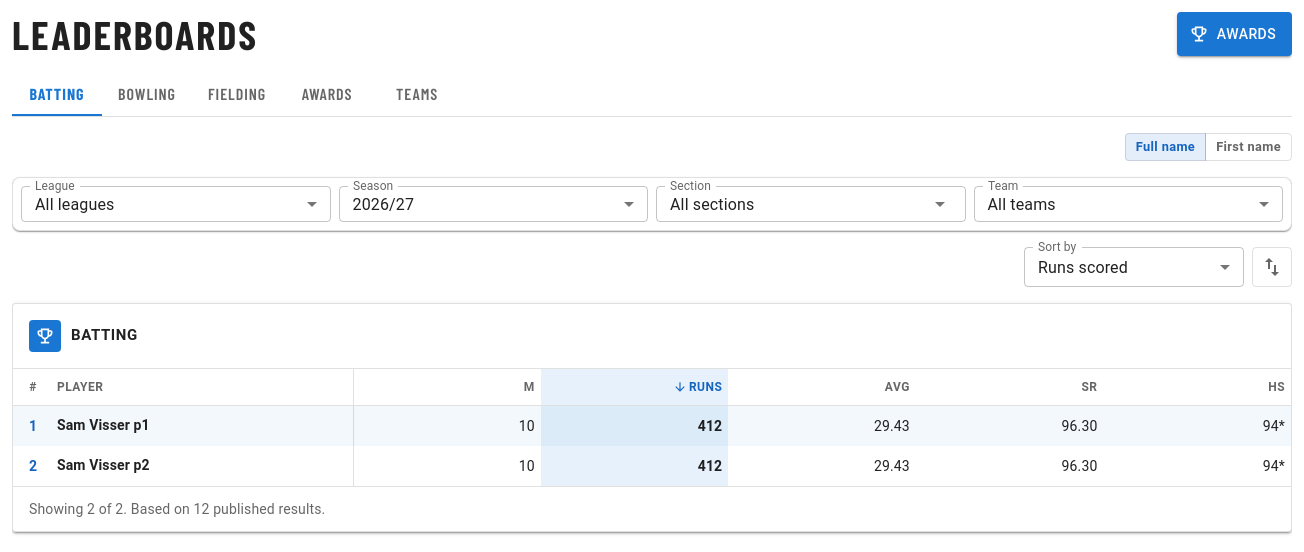
Test: LeaderboardsPage › columns and sorting › does not offer a heading or the Sort by select for a column the catalogue says is not sortable
The width and height of the screenshot is (1304, 552).
Expected: the button "M" is disabled, [353,369,541,405]
Click the dropdown named "Sort by" at (1083, 267), box [1038,258,1128,276]
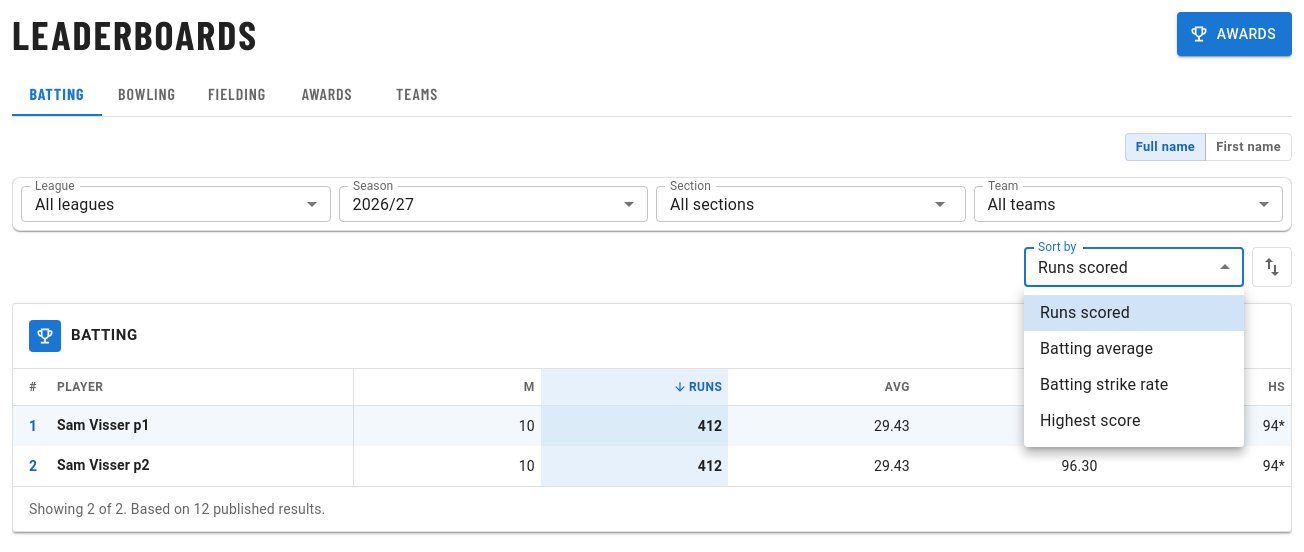
Expected: the options read "Runs scored", "Batting average", "Batting strike rate", "Highest score", in this order, [1024,295,1244,331]; [1040,339,1153,358]; [1040,375,1168,394]; [1040,411,1140,430]
